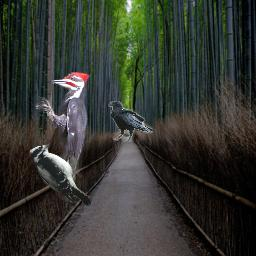Crow: (108, 101, 153, 142)
Woodpecker: (34, 72, 91, 183), (29, 143, 91, 206)
